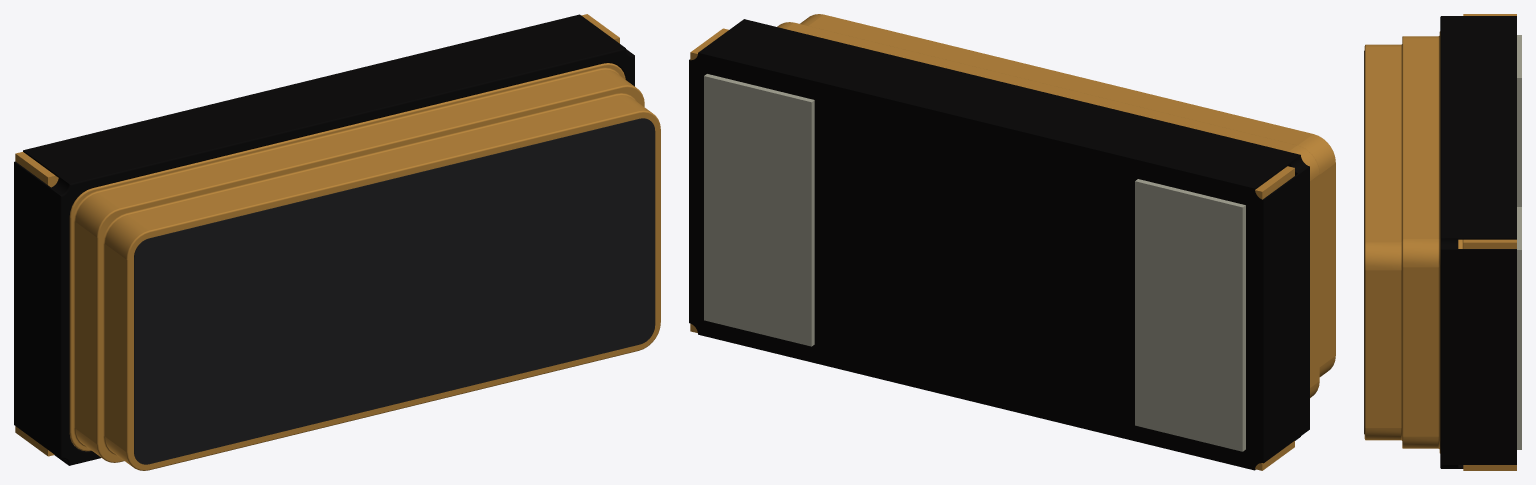
Rendered from crystal_smd_3215-2pin_3.2x1.5mm.glb.
3 renders of one model, left to right at view 1: azimuth 30°, elevation 25°; view 2: azimuth 150°, elevation 25°; view 3: azimuth 270°, elevation 25°, orthographic. The views are drawn at different scales.
Parts seen in each view (by area): view 1: Crystal_SMD_3215-2Pin_3.2x1.5mm; view 2: Crystal_SMD_3215-2Pin_3.2x1.5mm; view 3: Crystal_SMD_3215-2Pin_3.2x1.5mm.
Boxes of the visible parts, box(x1,y1,x2,y2) form: Crystal_SMD_3215-2Pin_3.2x1.5mm: box(14, 14, 660, 470); Crystal_SMD_3215-2Pin_3.2x1.5mm: box(689, 14, 1335, 470); Crystal_SMD_3215-2Pin_3.2x1.5mm: box(1364, 14, 1521, 470).
Bounding box in the file's own units: 3.2 × 1.5 × 0.93.
